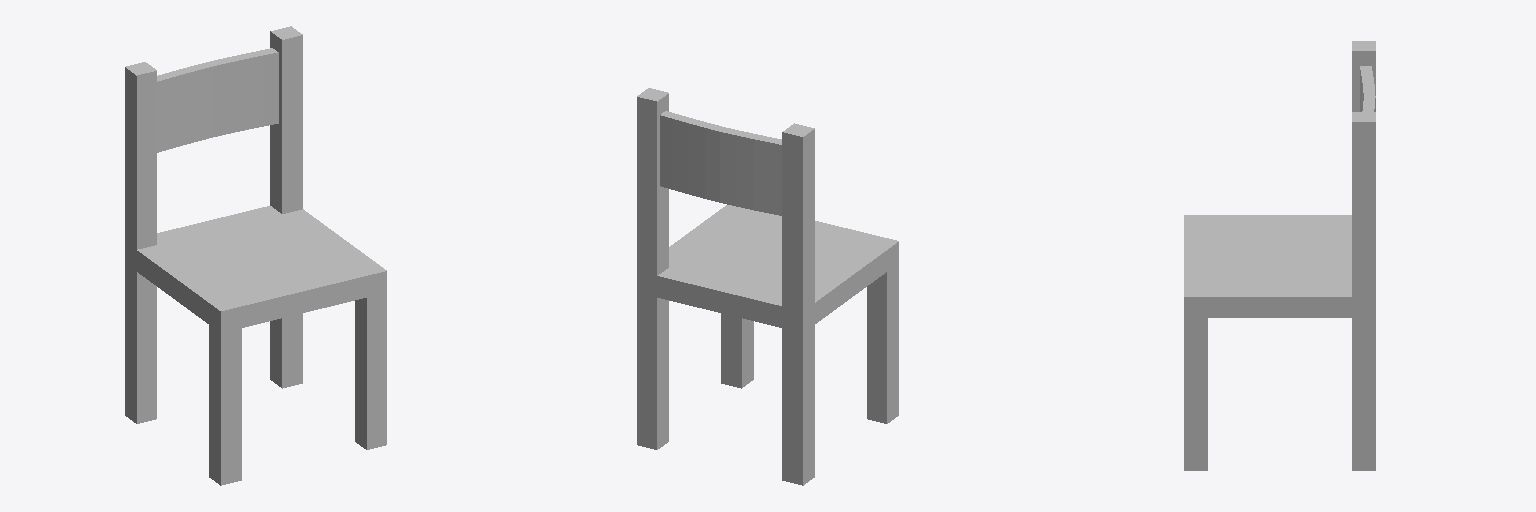
The model's file is sm_chair_final.obj.
The picture shows the model from 3 angles: view 1: azimuth 30°, elevation 25°; view 2: azimuth 150°, elevation 25°; view 3: azimuth 270°, elevation 25°; orthographic projection.
Visible parts, largest first — view 1: Object001; view 2: Object001; view 3: Object001.
Part boxes in pixels (left/top/right/bottom): Object001: left=125, top=26, right=386, bottom=485; Object001: left=637, top=88, right=898, bottom=485; Object001: left=1184, top=41, right=1375, bottom=470.
Size of the model in its own units: 8 by 16 by 8.